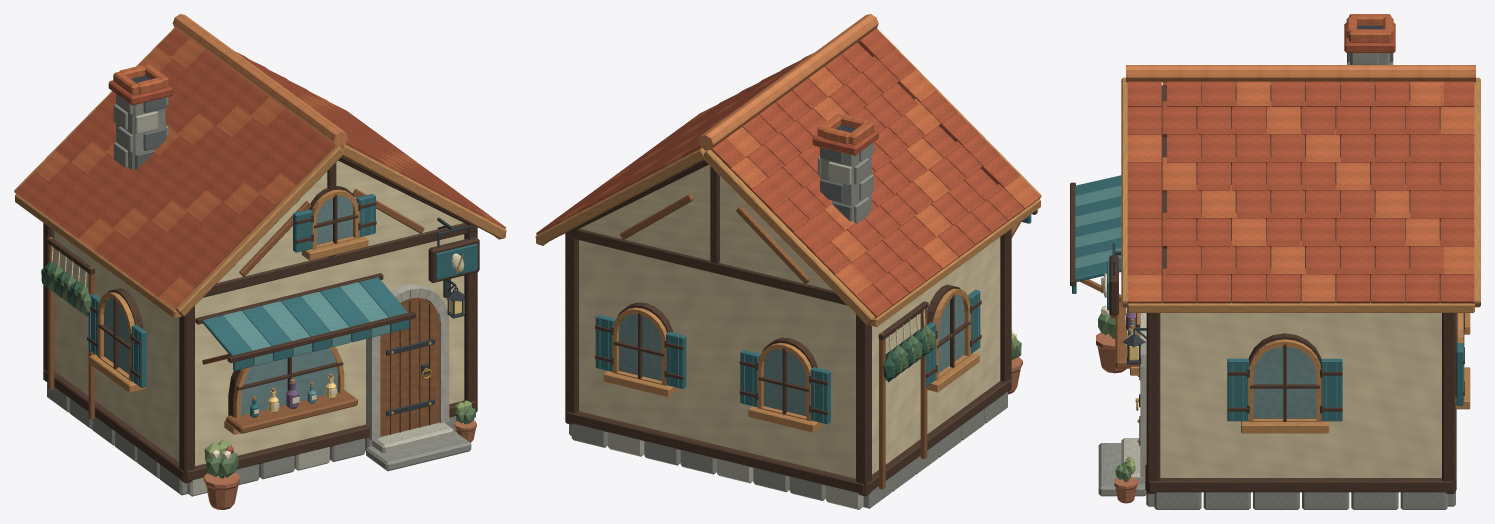
Rendered from building_herbalist_shop.glb.
3 renders of one model, left to right at view 1: azimuth 30°, elevation 25°; view 2: azimuth 150°, elevation 25°; view 3: azimuth 270°, elevation 25°, orthographic. The views are drawn at different scales.
Visible parts, largest first — view 1: building_herbalist_shop; view 2: building_herbalist_shop; view 3: building_herbalist_shop.
Boxes of the visible parts, x1,y1,x2,y2 form: building_herbalist_shop: (14,14,506,509); building_herbalist_shop: (535,14,1041,509); building_herbalist_shop: (1070,14,1480,509).
Size of the model in its own units: 5.2 by 5.07 by 5.12.
1 material, 1 textured.
